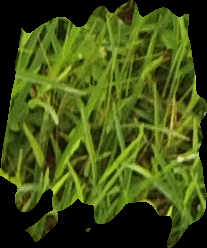grass: (1, 1, 206, 247)
